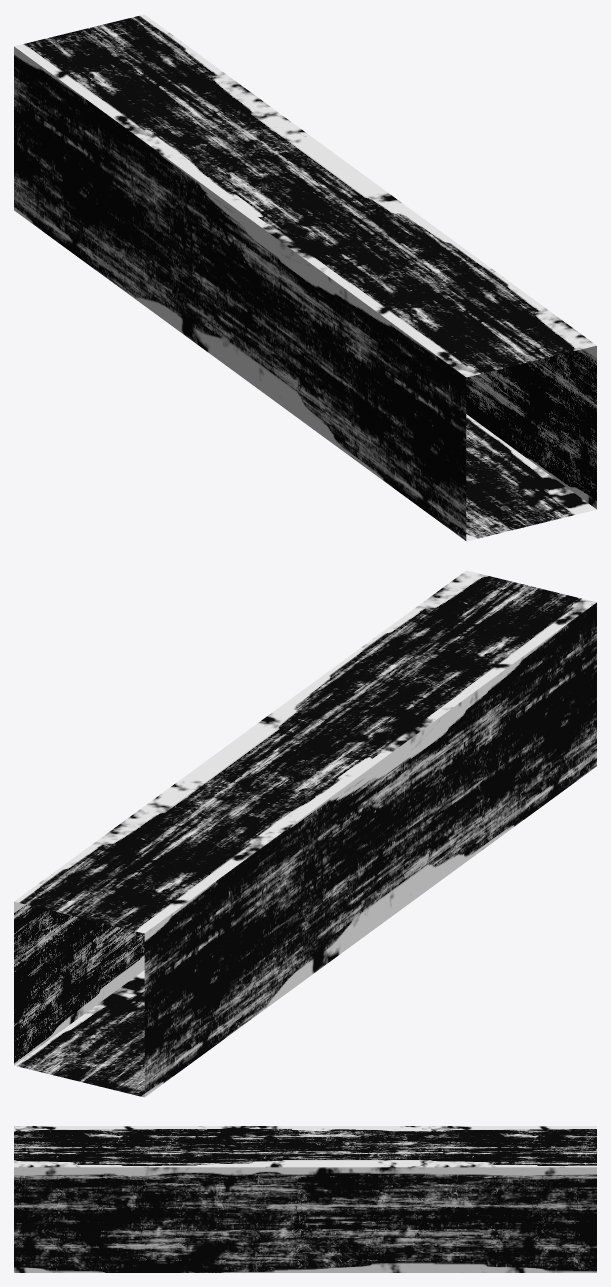
File: SM_wall_A_element_3_01.fbx
The picture shows the model from 3 angles, top to bottom: view 1: azimuth 30°, elevation 25°; view 2: azimuth 150°, elevation 25°; view 3: azimuth 270°, elevation 25°; orthographic projection. The views are drawn at different scales.
Parts seen in each view (by area): view 1: SM_wall_A_element_3_01_LOD0; view 2: SM_wall_A_element_3_01_LOD0; view 3: SM_wall_A_element_3_01_LOD0.
Part boxes in pixels (bbox=[...]): SM_wall_A_element_3_01_LOD0: bbox=[14, 14, 596, 541]; SM_wall_A_element_3_01_LOD0: bbox=[14, 570, 596, 1097]; SM_wall_A_element_3_01_LOD0: bbox=[14, 1126, 596, 1272].
Bounding box in the file's own units: 50 × 300 × 60.
1 material, 1 textured.
